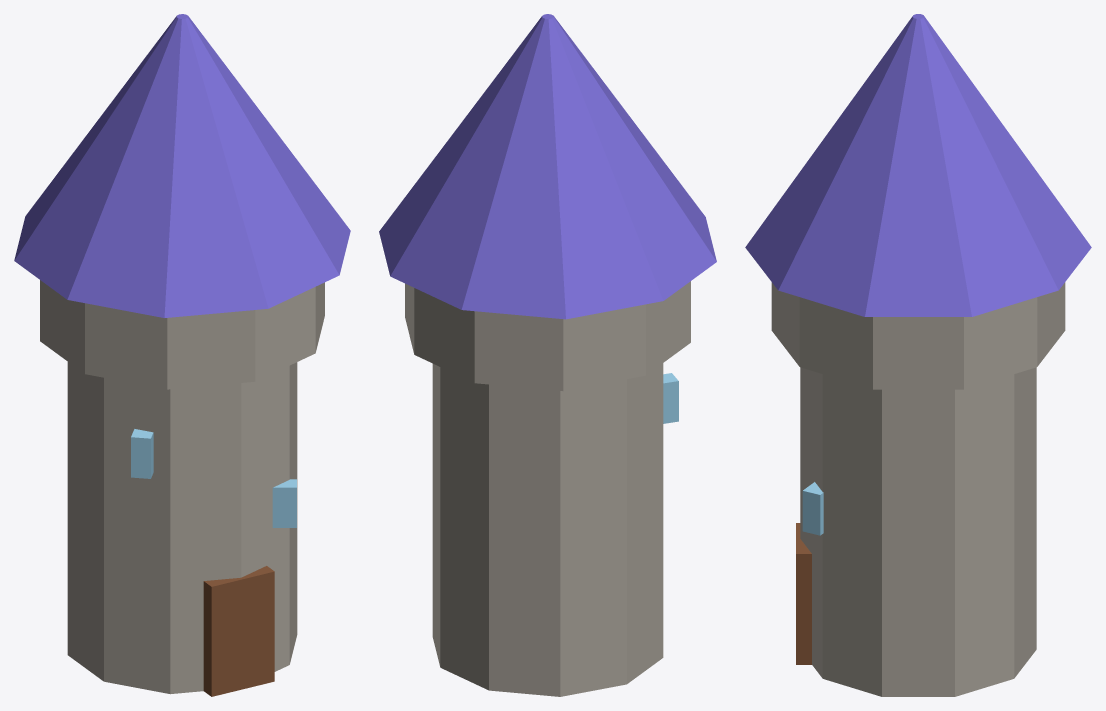
File: tower.glb
3 views of the same model, side by side, from view 1: azimuth 30°, elevation 25°; view 2: azimuth 150°, elevation 25°; view 3: azimuth 270°, elevation 25° (orthographic).
Visible parts, largest first — view 1: Tower; view 2: Tower; view 3: Tower.
Boxes of the visible parts, bbox=[...] form: Tower: bbox=[14, 14, 350, 696]; Tower: bbox=[379, 14, 716, 696]; Tower: bbox=[745, 14, 1091, 696].
Bounding box in the file's own units: 1.62 × 3.42 × 1.7.
